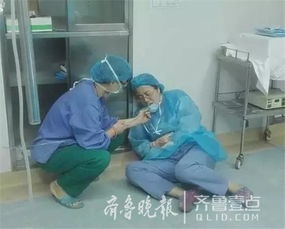falling: (116, 66, 257, 212)
